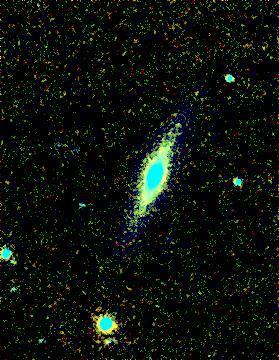star: (165, 111, 195, 141)
